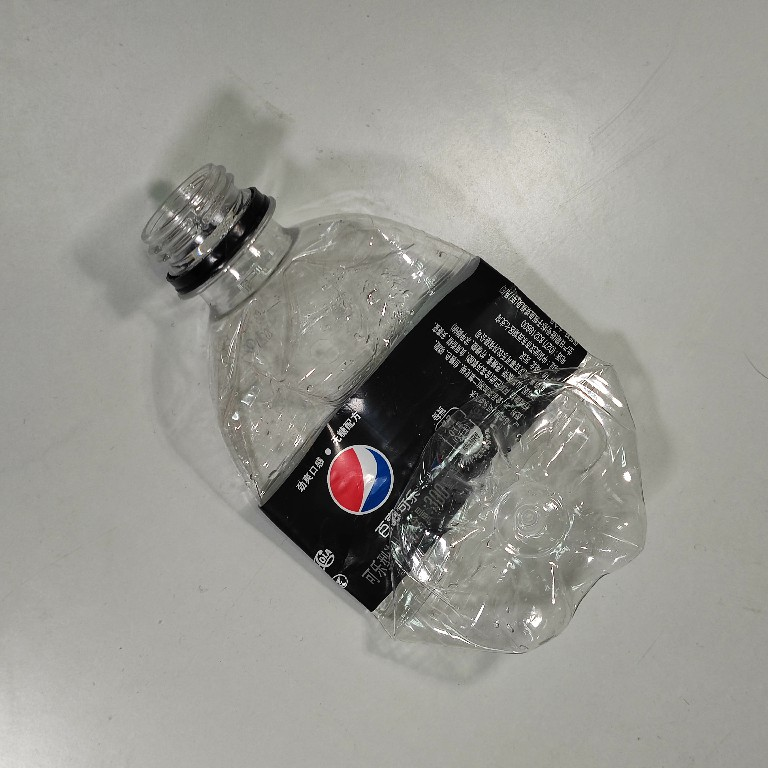bottle: (138, 156, 657, 660)
